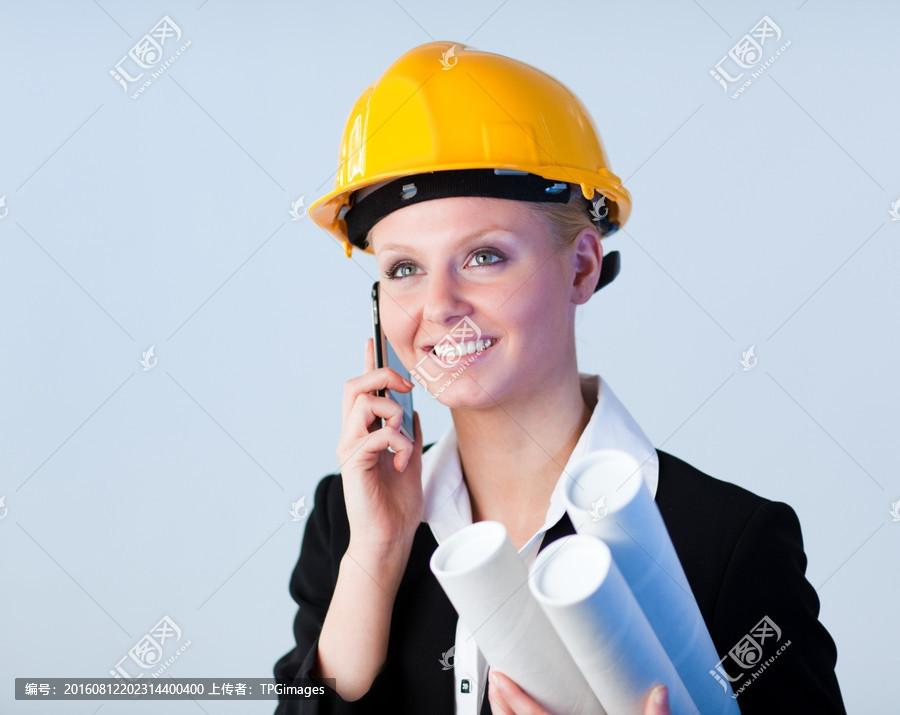helmet: (297, 40, 640, 251)
